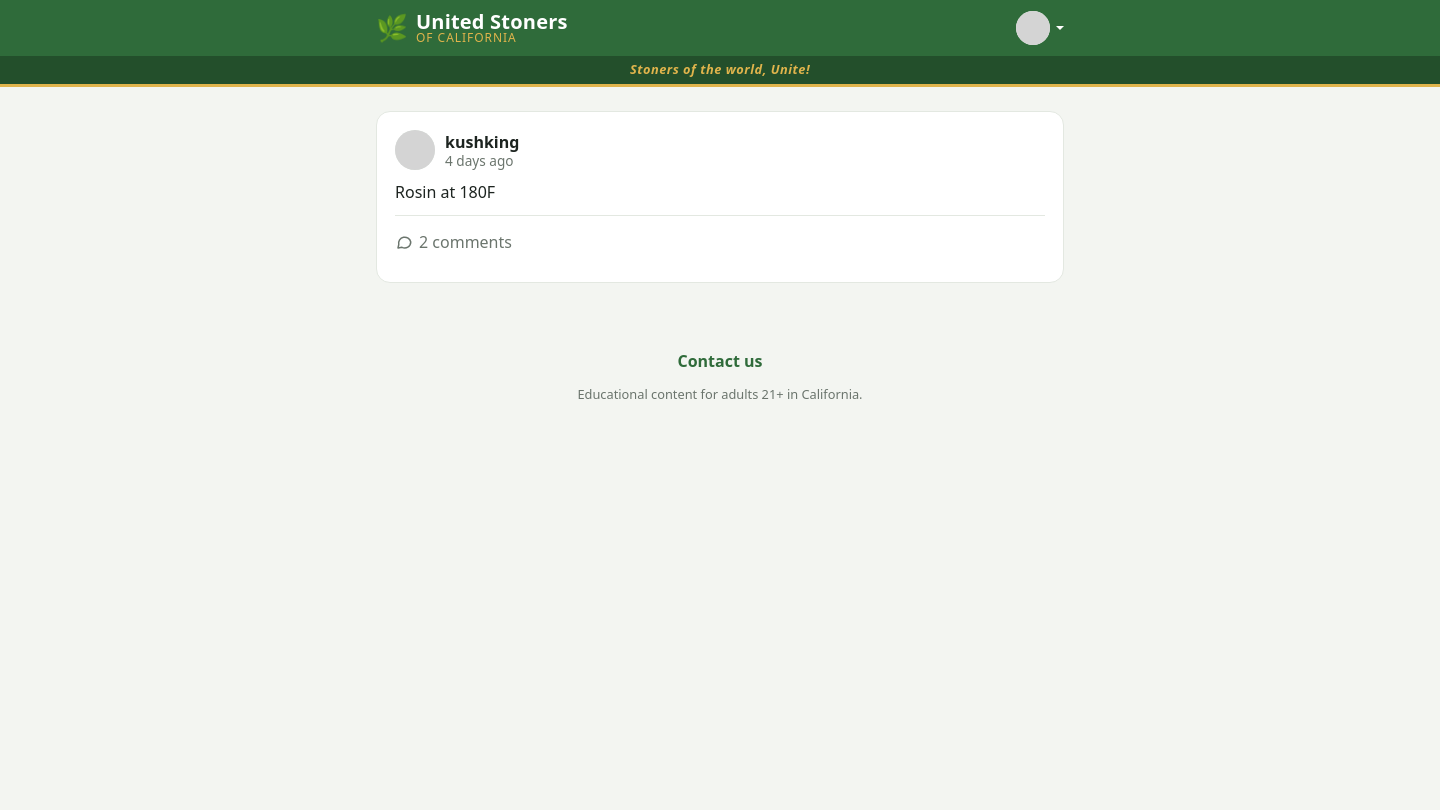
Scenario: contact us › members see the footer link and get their email filled in
Click the link "Contact us" at (720, 361), box 678,350 -> 762,372
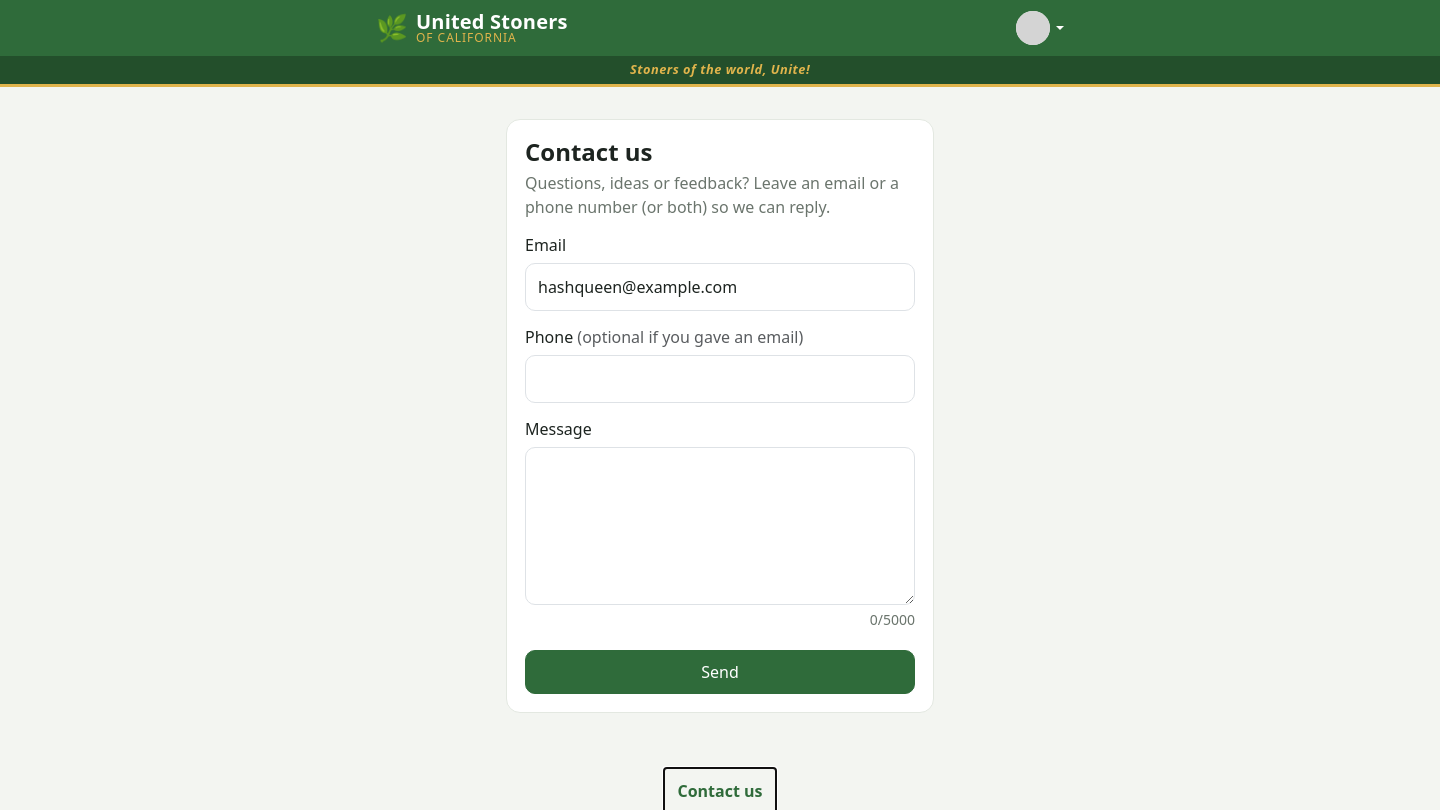
expect the heading "Contact us" is shown: met, box 525,135 -> 652,168
expect the field labelled "Email" holds "hashqueen@example.com": met, box 525,263 -> 915,311
